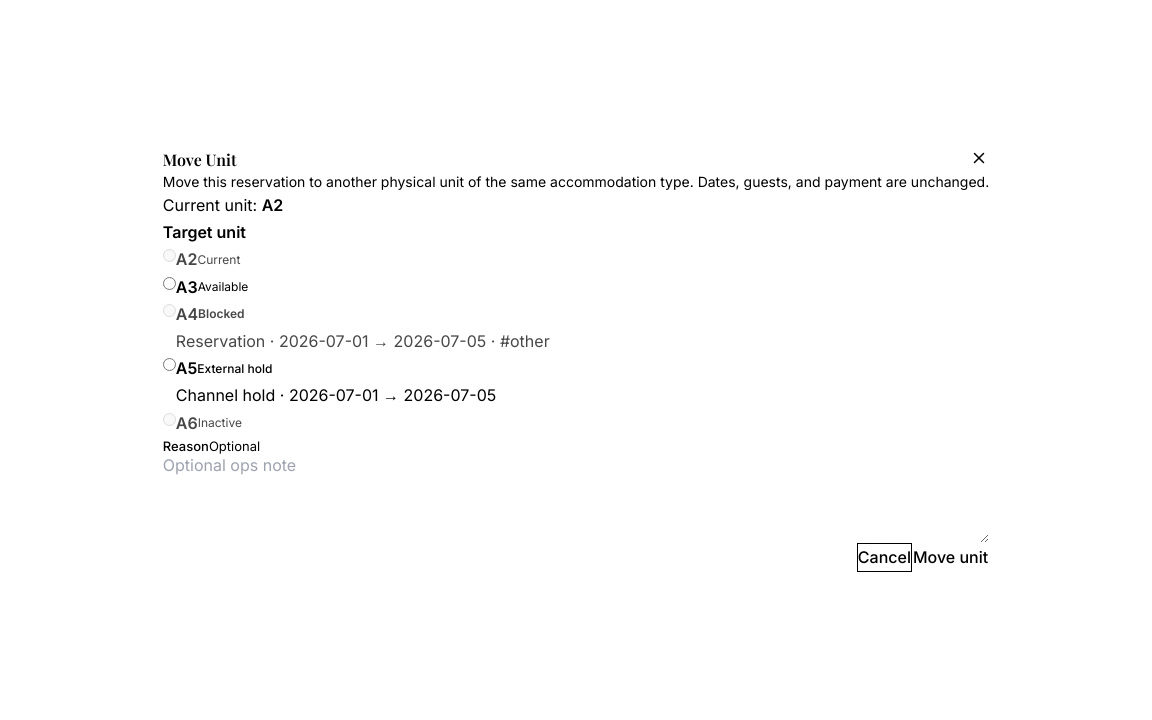
Test: MoveUnitDialog behavior › requires external acknowledgment and resets on target change
Check: the text "A5" is shown, box [176,355,197,382]
What coordinates should you click on to do the following:
click the radio button showing "u-ext"
I would click on:
 (169, 365)
Its box is [163,358,176,371].
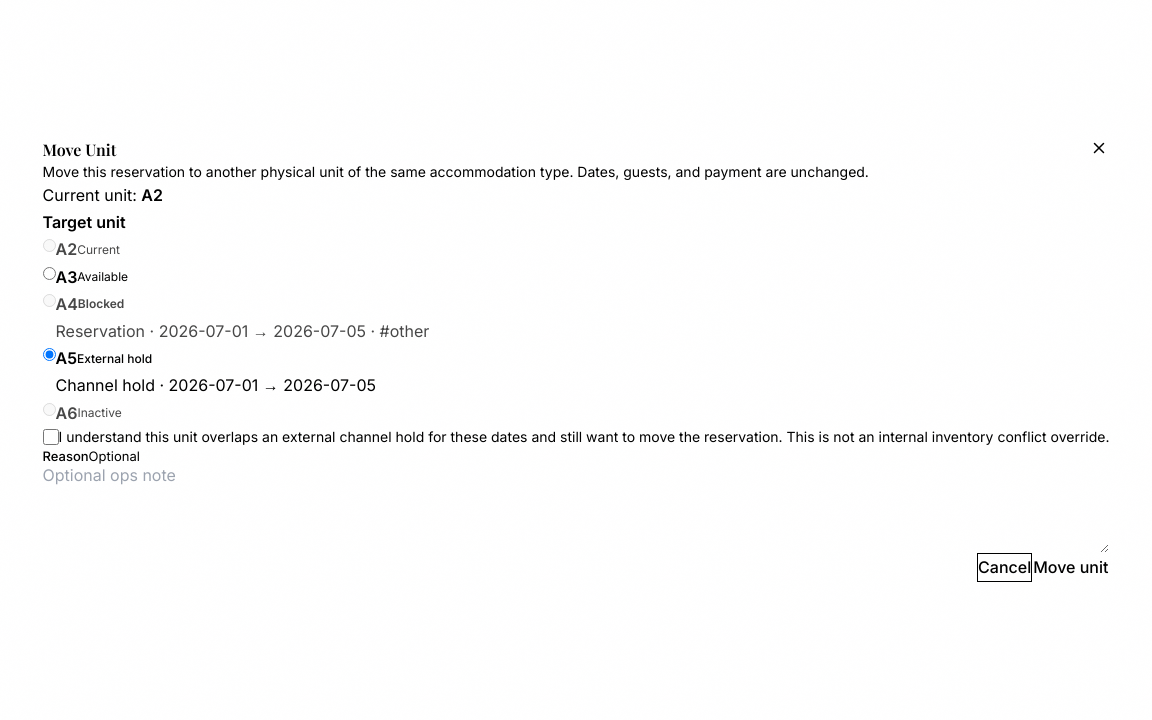
Check: the button "Move unit" is disabled, box [1032,553,1110,582]
Check: the checkbox is not checked
What coordinates should you click on to do the following:
click the checkbox
I would click on:
 (50, 437)
Its box is [42,429,58,445].
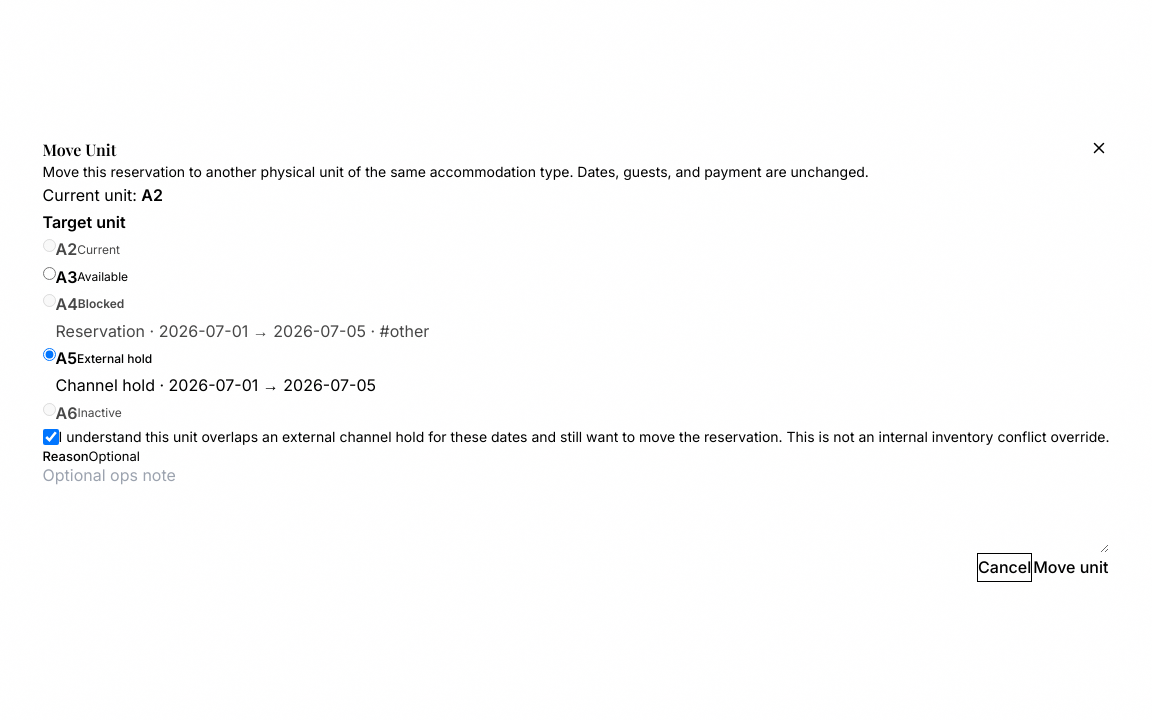
Check: the button "Move unit" is enabled, box [1032,553,1110,582]
What coordinates should you click on to do the following:
click the radio button showing "u-avail"
I would click on:
 (49, 273)
Its box is [42,267,56,280].
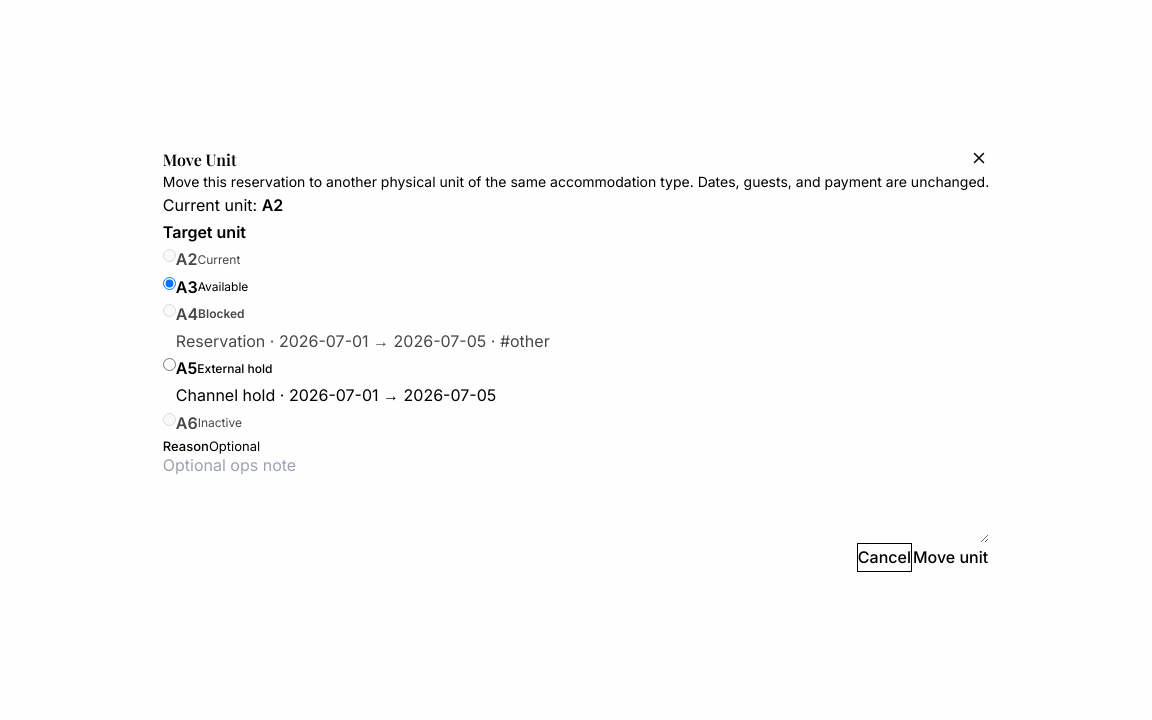
Check: the checkbox is gone
